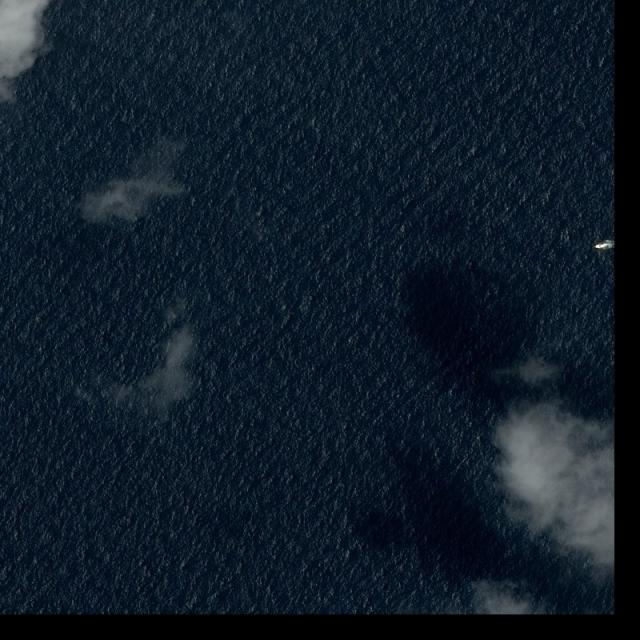ship: (592, 242, 608, 251)
